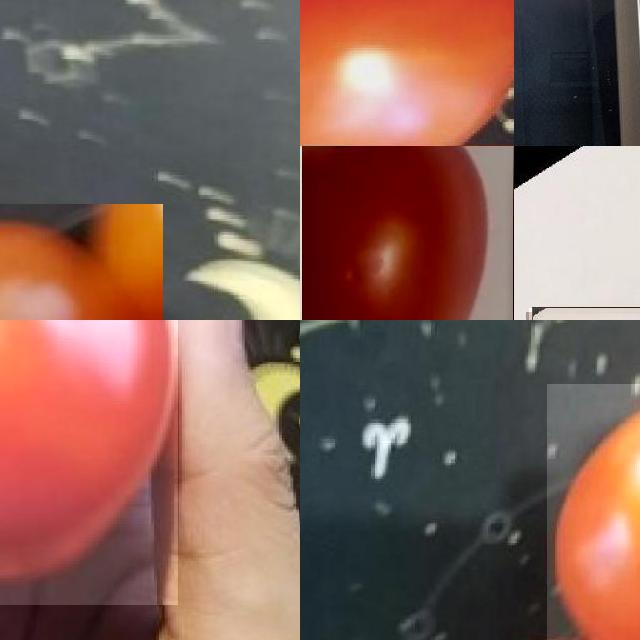Fresh Tomato: (0, 320, 178, 605), (302, 146, 514, 320), (300, 0, 514, 146), (547, 384, 640, 640)
